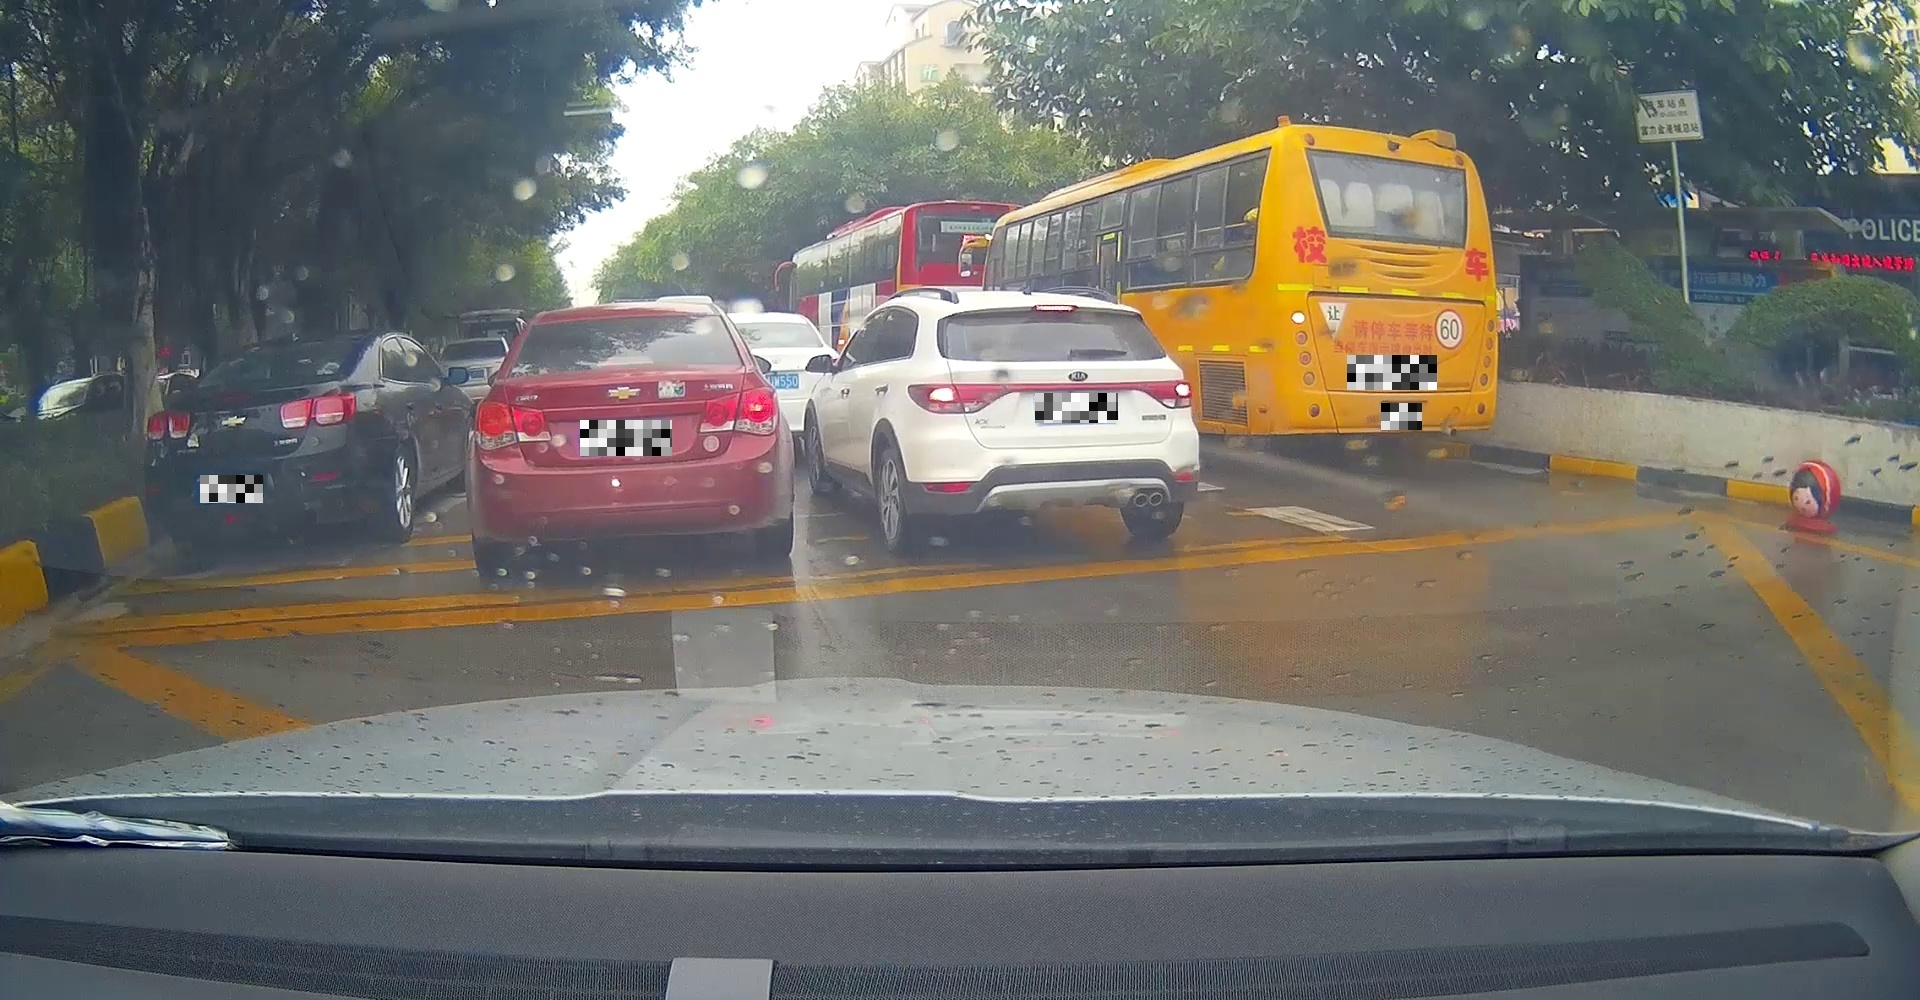L_light: (472, 401, 552, 451), (907, 382, 1006, 414), (1291, 310, 1316, 386), (149, 410, 190, 440)
R_light: (698, 386, 780, 437), (279, 392, 356, 428), (1133, 381, 1191, 409), (1481, 317, 1496, 387)
T_light: (1373, 223, 1415, 237), (598, 355, 653, 365), (1035, 305, 1077, 312), (276, 344, 303, 353)
day-brake: (905, 291, 1200, 555)
day-left: (1274, 124, 1498, 451)
day-no: (466, 301, 795, 576), (145, 330, 367, 558)
plate_1: (201, 475, 263, 503)
plate_2: (580, 420, 672, 456)
plate_3: (1035, 393, 1117, 423)
plate_4: (1347, 355, 1437, 390)
plate_5: (1382, 404, 1422, 430)
